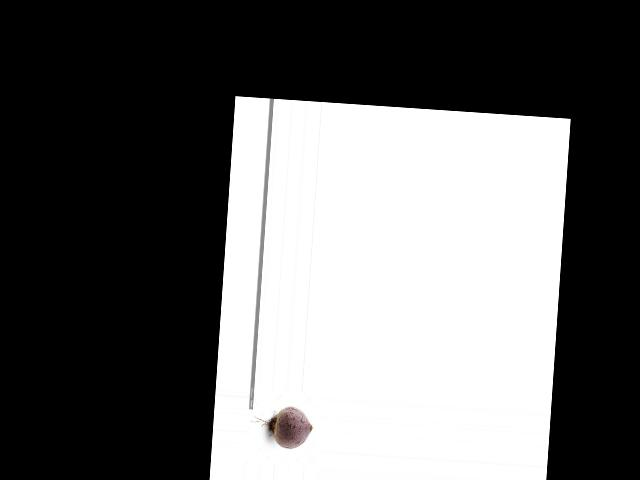beet: (248, 403, 314, 450)
